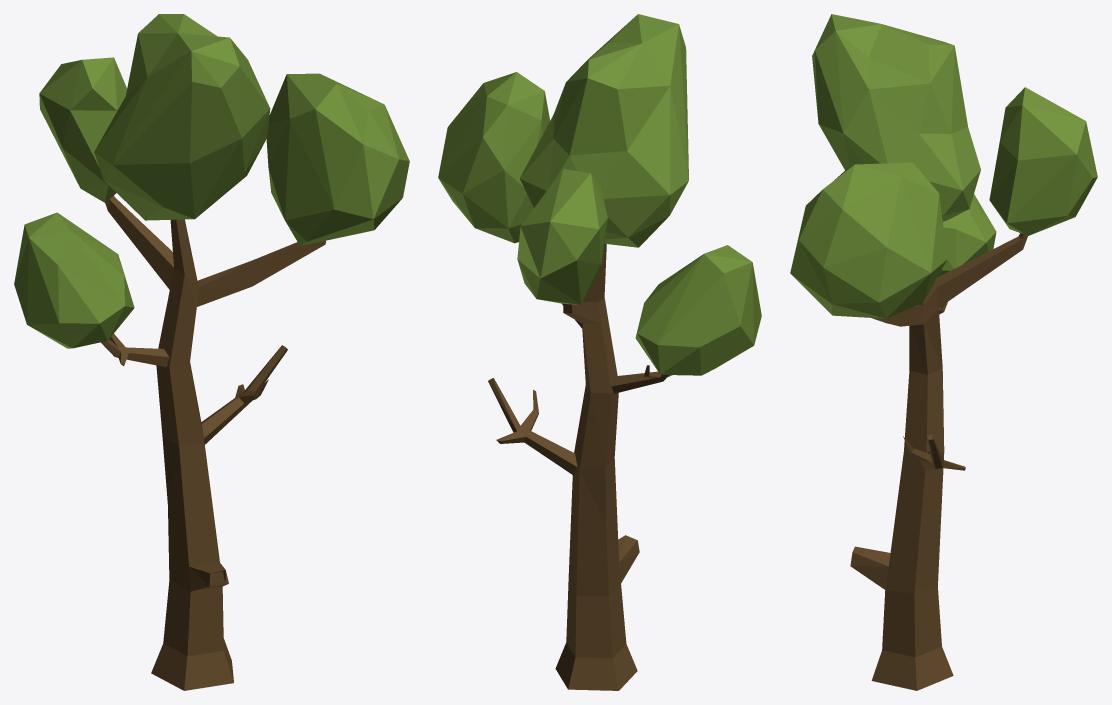
The model's file is Tree_02.fbx.
3 views of the same model, side by side, from view 1: azimuth 30°, elevation 25°; view 2: azimuth 150°, elevation 25°; view 3: azimuth 270°, elevation 25° (orthographic). The views are drawn at different scales.
Visible parts, largest first — view 1: Tree_02; view 2: Tree_02; view 3: Tree_02.
Part boxes in pixels (x1,y1,x2,y2): Tree_02: (14, 14, 409, 690); Tree_02: (438, 14, 761, 690); Tree_02: (790, 14, 1097, 690).
Bounding box in the file's own units: 323 × 595 × 259.
